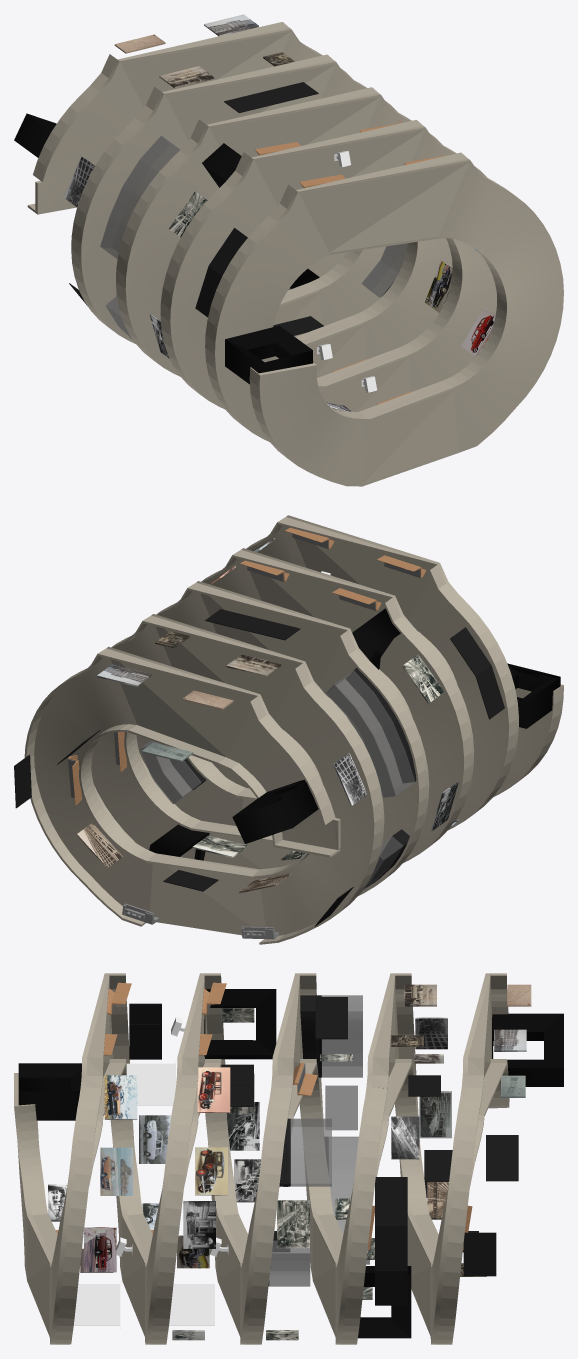
The model's file is Esposizione.obj.
3 renders of one model, top to bottom at view 1: azimuth 30°, elevation 25°; view 2: azimuth 150°, elevation 25°; view 3: azimuth 270°, elevation 25°, orthographic. The views are drawn at different scales.
Parts seen in each view (by area): view 1: Rampa, Portale4, Object004, Object001, Portale1, Portale3, Box067, Box104, Schermo015, Box092, Box093, Box101 (+4 smaller); view 2: Rampa, Object004, Portale1, Vetrina_giusta1, Portale4, Object001, Portale3, Portale2, Box101, Box011, Box092, Schermo015 (+14 smaller); view 3: Rampa, Portale1, Portale4, Portale3, Object002, Object004, Box001, Box211, Portale2, Object003, Box216, Object001 (+40 smaller).
Part boxes in pixels (x1,y1,x2,y2): Rampa: (27, 22, 563, 486); Portale4: (225, 325, 313, 384); Object004: (100, 135, 180, 258); Object001: (361, 243, 407, 297); Portale1: (14, 113, 56, 157); Portale3: (202, 143, 241, 187); Box067: (461, 307, 495, 356); Box104: (425, 260, 452, 312); Schermo015: (209, 228, 247, 275); Box092: (64, 156, 94, 206); Box093: (159, 66, 214, 88); Box101: (168, 191, 207, 237); Rampa: (24, 515, 563, 944); Object004: (326, 670, 414, 797); Portale1: (232, 779, 318, 843); Vetrina_giusta1: (346, 668, 416, 783); Portale4: (507, 663, 560, 728); Object001: (139, 740, 201, 804); Portale3: (352, 608, 400, 669); Portale2: (149, 824, 209, 860); Box101: (402, 654, 444, 703); Box011: (76, 823, 122, 868); Box092: (333, 753, 367, 805); Schermo015: (450, 627, 491, 676); Rampa: (14, 973, 509, 1344); Portale1: (492, 1013, 563, 1086); Portale4: (18, 1063, 81, 1120); Portale3: (204, 989, 276, 1059); Object002: (290, 1118, 331, 1186); Object004: (321, 995, 362, 1077); Box001: (73, 1284, 119, 1325); Box211: (169, 1284, 214, 1325); Portale2: (358, 1266, 411, 1338); Object003: (329, 1136, 369, 1264); Box216: (126, 1063, 175, 1105); Object001: (269, 1240, 310, 1286).
Size of the model in its own units: 968 by 782 by 1326.
